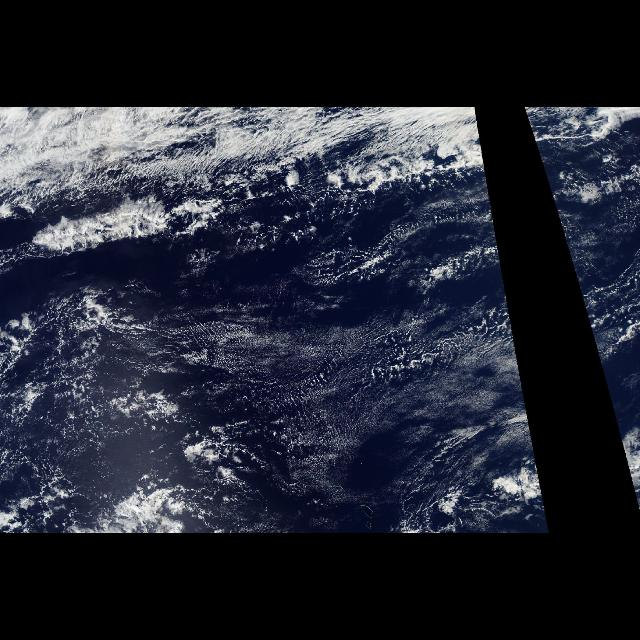Gravel: (1, 257, 150, 467)
Sugar: (6, 274, 540, 510)
